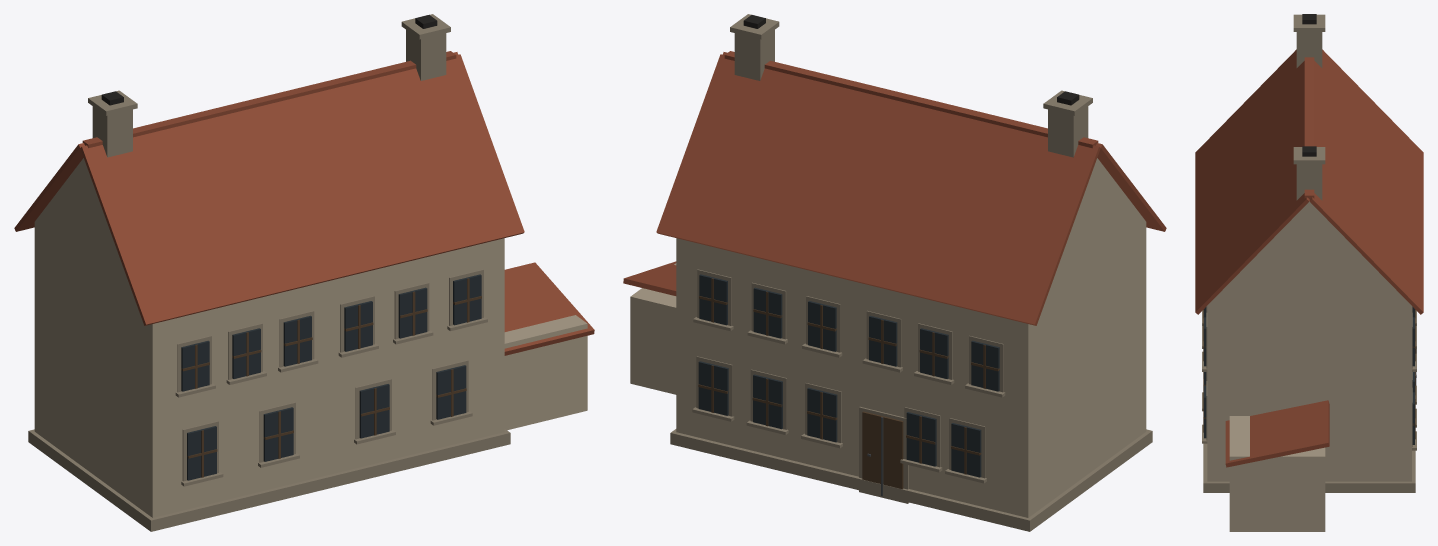
Rendered from house_normandy_l.glb.
3 renders of one model, left to right at view 1: azimuth 30°, elevation 25°; view 2: azimuth 150°, elevation 25°; view 3: azimuth 270°, elevation 25°, orthographic. The views are drawn at different scales.
Parts seen in each view (by area): view 1: house_normandy_l; view 2: house_normandy_l; view 3: house_normandy_l.
Boxes of the visible parts, x1,y1,x2,y2 form: house_normandy_l: [14, 14, 594, 531]; house_normandy_l: [623, 14, 1166, 531]; house_normandy_l: [1195, 14, 1423, 531].
Size of the model in its own units: 14.57 by 11.61 by 7.14.
